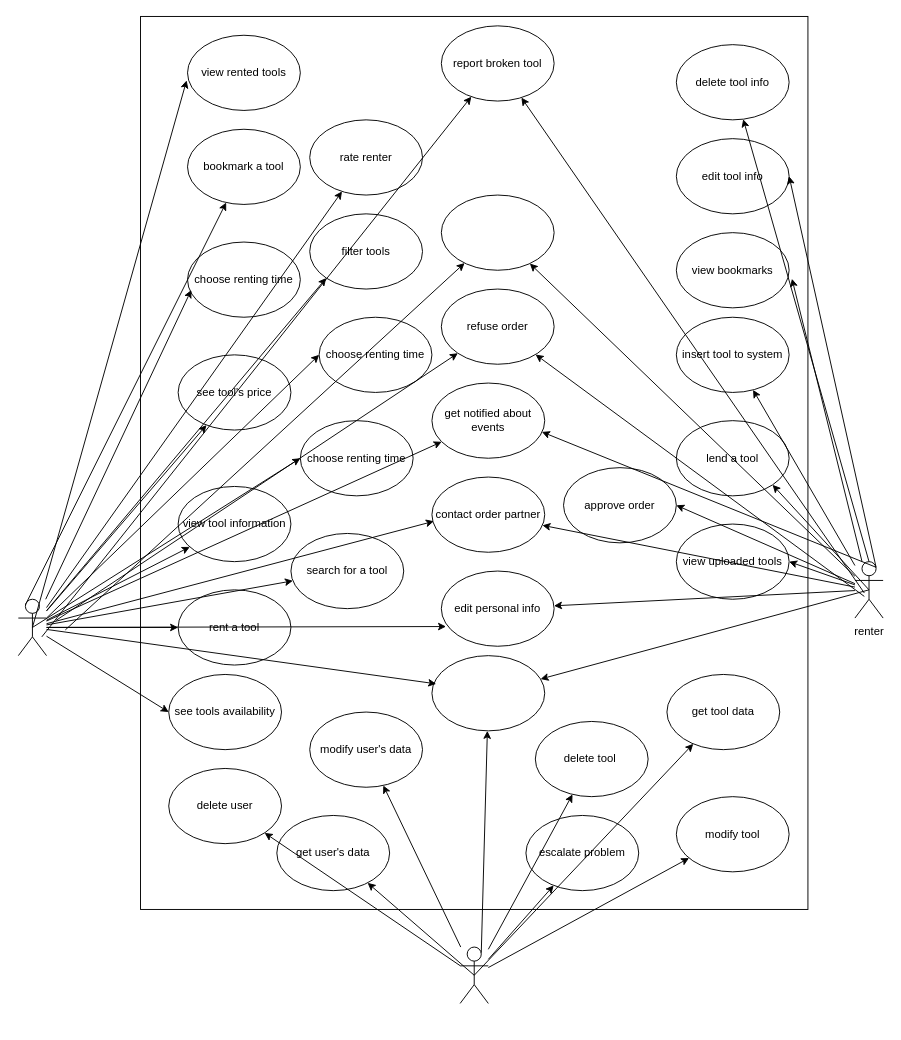
Some shapes in this 901 by 1040 pixel diagram are drawn without their labels. Here are the shapes that lost their labels. From the top down, the box of each, then its label:
(440, 194, 554, 270): rate order partner
(17, 598, 47, 656): rentee
(431, 655, 545, 731): contact admin (create problem)
(459, 946, 488, 1003): admin
